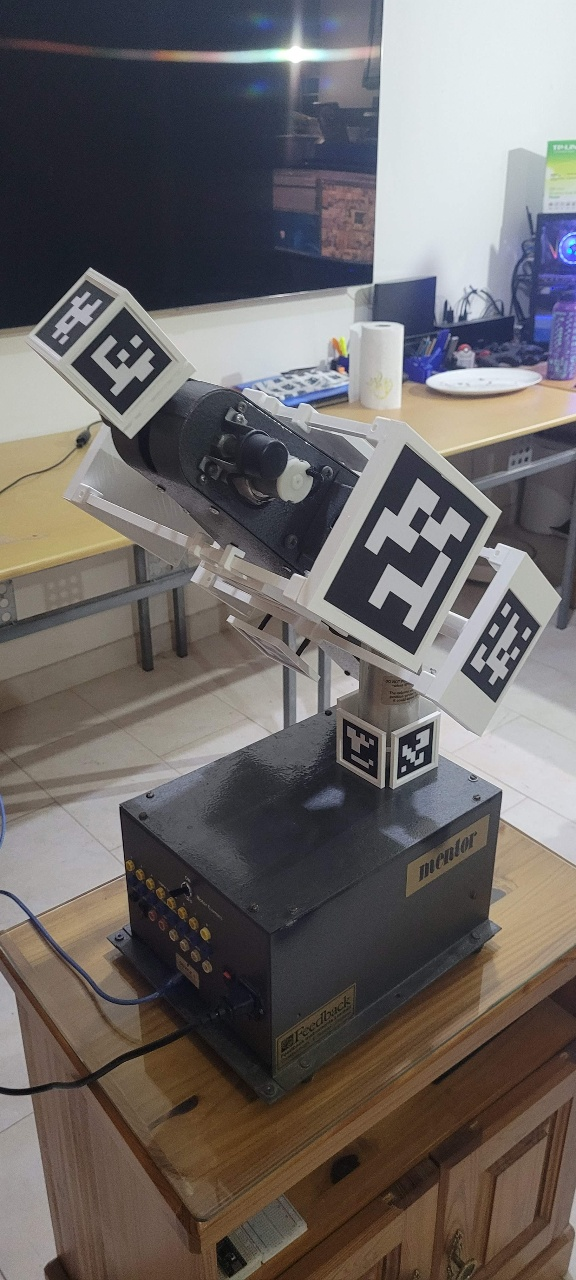Robot: (25, 265, 563, 790)
